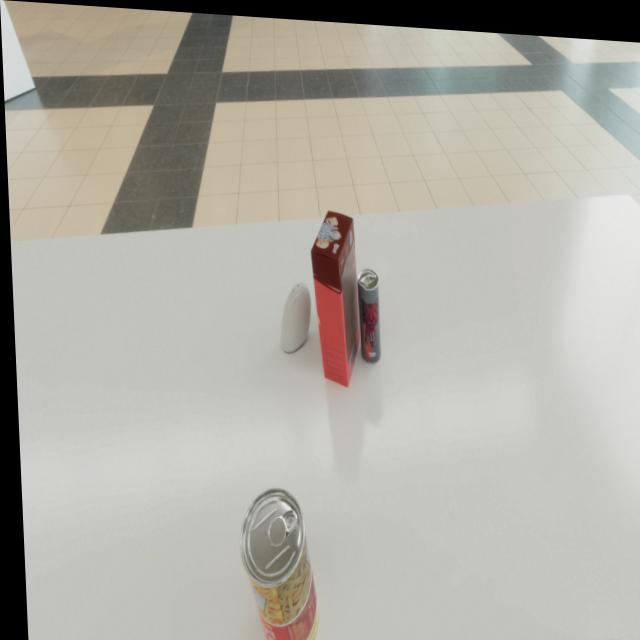HelloPanda: (307, 205, 359, 384)
Potato_sticks: (233, 482, 315, 640)
Rita_zero_sugar: (354, 263, 379, 359), (326, 228, 350, 319)
Salt: (275, 277, 310, 350), (586, 629, 640, 640)
